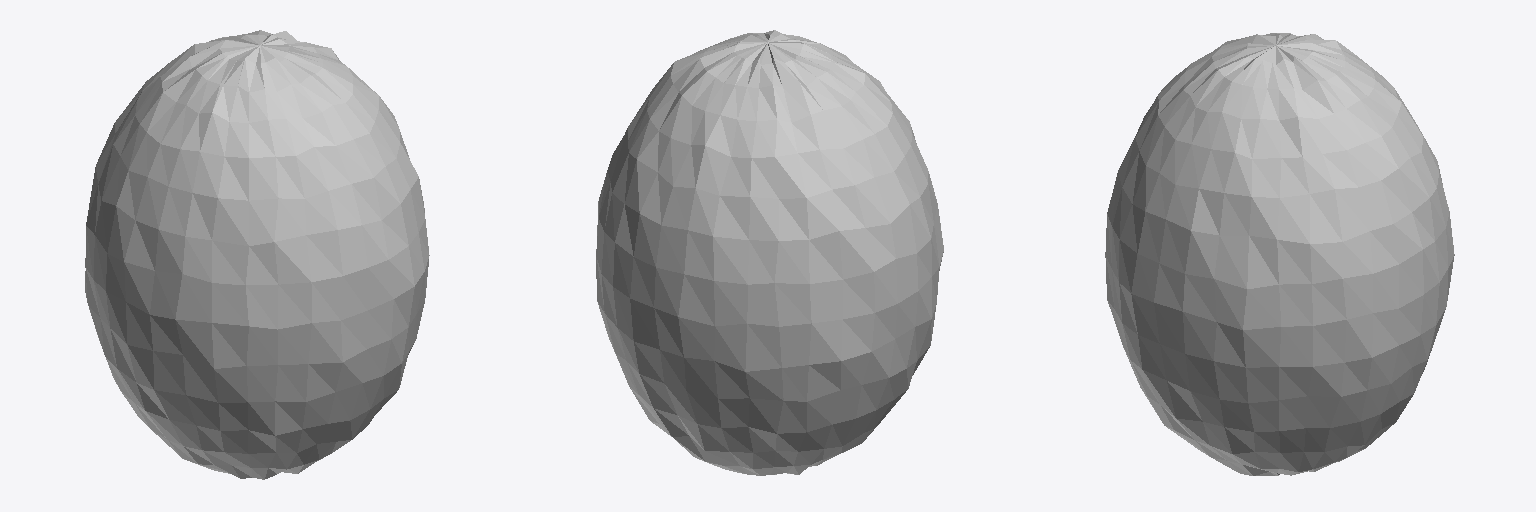
Rendered from dragonegg.obj.
3 views of the same model, side by side, from view 1: azimuth 30°, elevation 25°; view 2: azimuth 150°, elevation 25°; view 3: azimuth 270°, elevation 25° (orthographic).
Visible parts, largest first — view 1: Sphere; view 2: Sphere; view 3: Sphere.
Boxes of the visible parts, x1=… form: Sphere: x1=85, y1=30, x2=429, y2=479; Sphere: x1=596, y1=30, x2=943, y2=475; Sphere: x1=1105, y1=33, x2=1454, y2=475.
Bounding box in the file's own units: 0.7517 × 1.01 × 0.756.